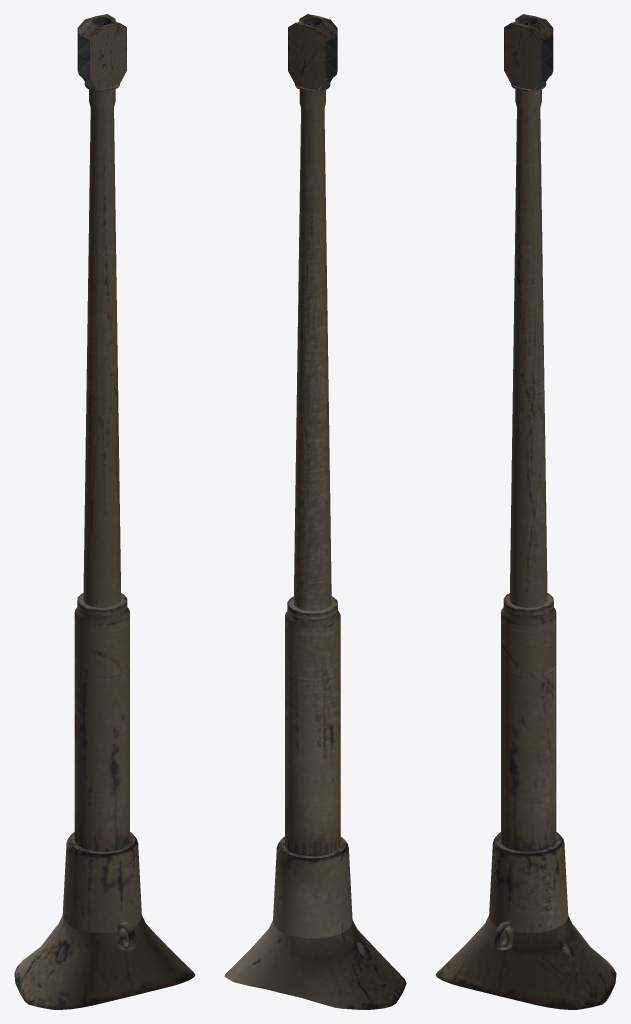
The model's file is Gun_01.glb.
3 views of the same model, side by side, from view 1: azimuth 30°, elevation 25°; view 2: azimuth 150°, elevation 25°; view 3: azimuth 330°, elevation 25° (orthographic).
Visible parts, largest first — view 1: set_0_group_0; view 2: set_0_group_0; view 3: set_0_group_0.
Boxes of the visible parts, x1=… form: set_0_group_0: x1=14, y1=14, x2=195, y2=1009; set_0_group_0: x1=224, y1=14, x2=406, y2=1009; set_0_group_0: x1=435, y1=14, x2=616, y2=1009.
Bounding box in the file's own units: 0.9049 × 5.32 × 0.6144.
Materials: 1 (1 with a texture image).
